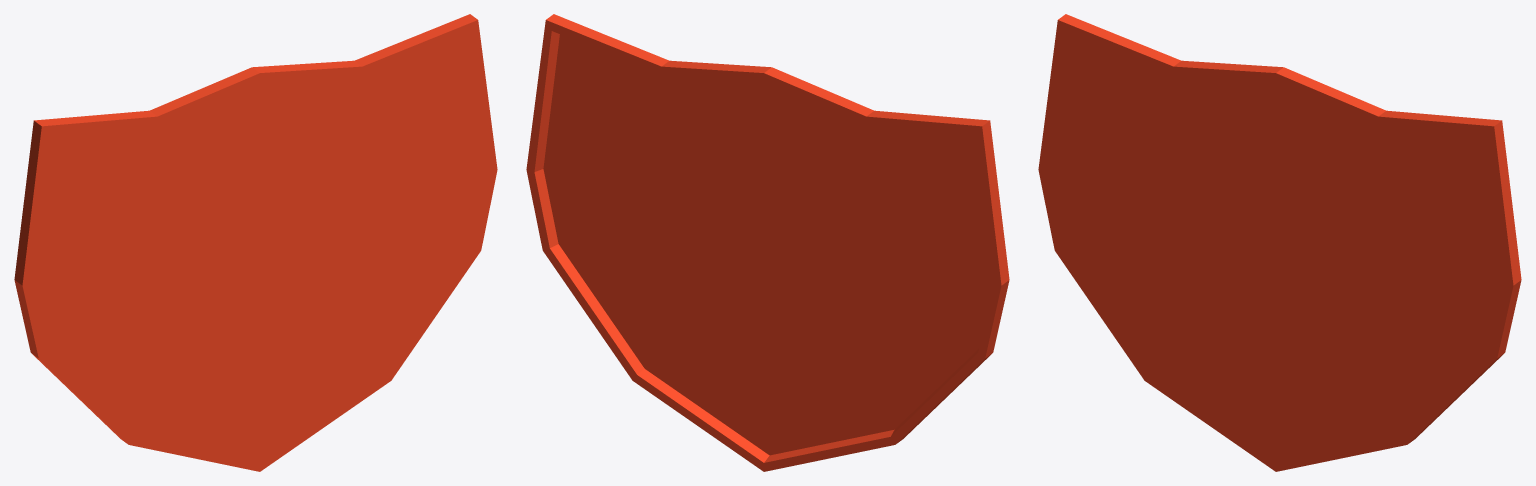
The model's file is SM_Sign_Route_Wide_City.fbx.
3 views of the same model, side by side, from view 1: azimuth 30°, elevation 25°; view 2: azimuth 150°, elevation 25°; view 3: azimuth 330°, elevation 25° (orthographic).
Parts seen in each view (by area): view 1: SM_Sign_Route_Wide_City; view 2: SM_Sign_Route_Wide_City; view 3: SM_Sign_Route_Wide_City.
Boxes of the visible parts, x1,y1,x2,y2 form: SM_Sign_Route_Wide_City: [14, 14, 497, 471]; SM_Sign_Route_Wide_City: [526, 14, 1009, 471]; SM_Sign_Route_Wide_City: [1038, 14, 1521, 471].
Bounding box in the file's own units: 0.7773 × 0.6236 × 0.0228.
